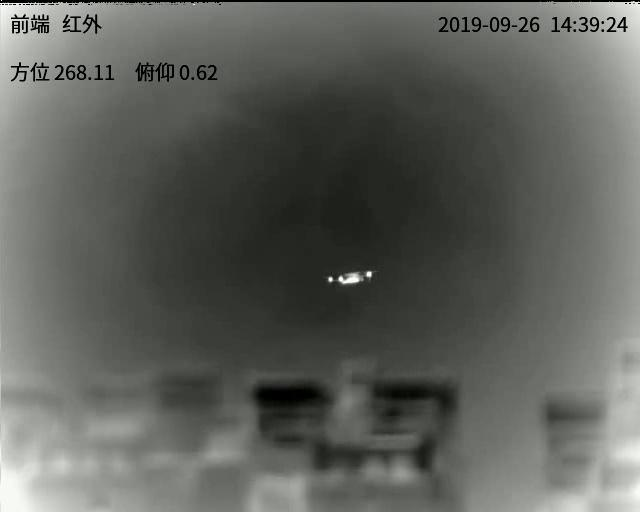DRONE: (325, 268, 375, 287)
